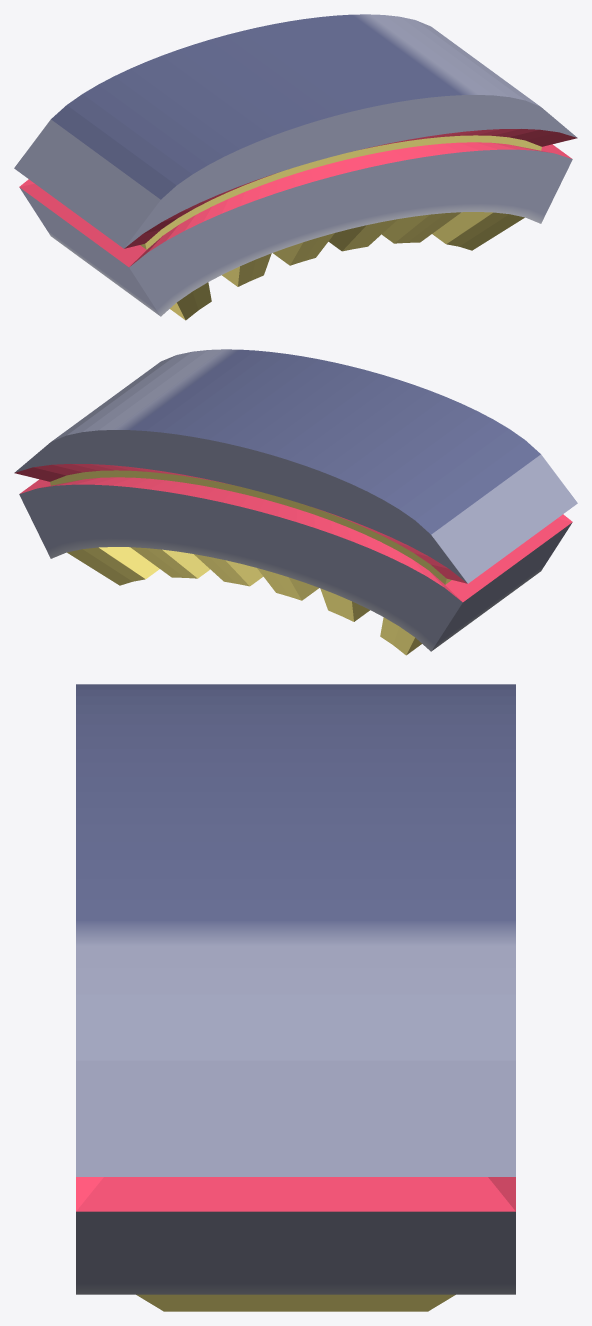
3 views of the same model, one above another, from view 1: azimuth 30°, elevation 25°; view 2: azimuth 150°, elevation 25°; view 3: azimuth 270°, elevation 25° (orthographic). The views are drawn at different scales.
Parts seen in each view (by area): view 1: Paddle; view 2: Paddle; view 3: Paddle.
Boxes of the visible parts, left/top/right/bottom form: Paddle: left=14, top=14, right=577, bottom=320; Paddle: left=14, top=349, right=577, bottom=655; Paddle: left=76, top=684, right=515, bottom=1311.
Size of the model in its own units: 4.77 by 1.91 by 2.
